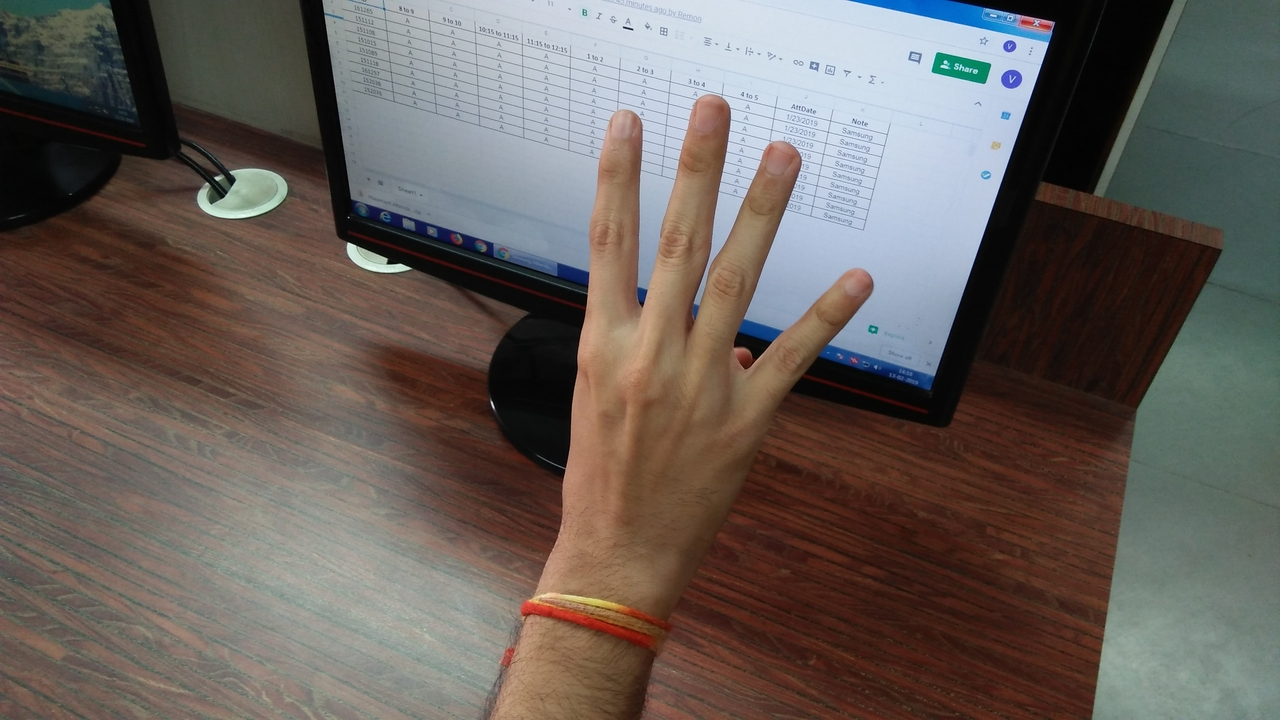fingertip: (750, 130, 808, 182), (680, 88, 740, 134), (824, 258, 878, 306), (594, 102, 650, 146)
